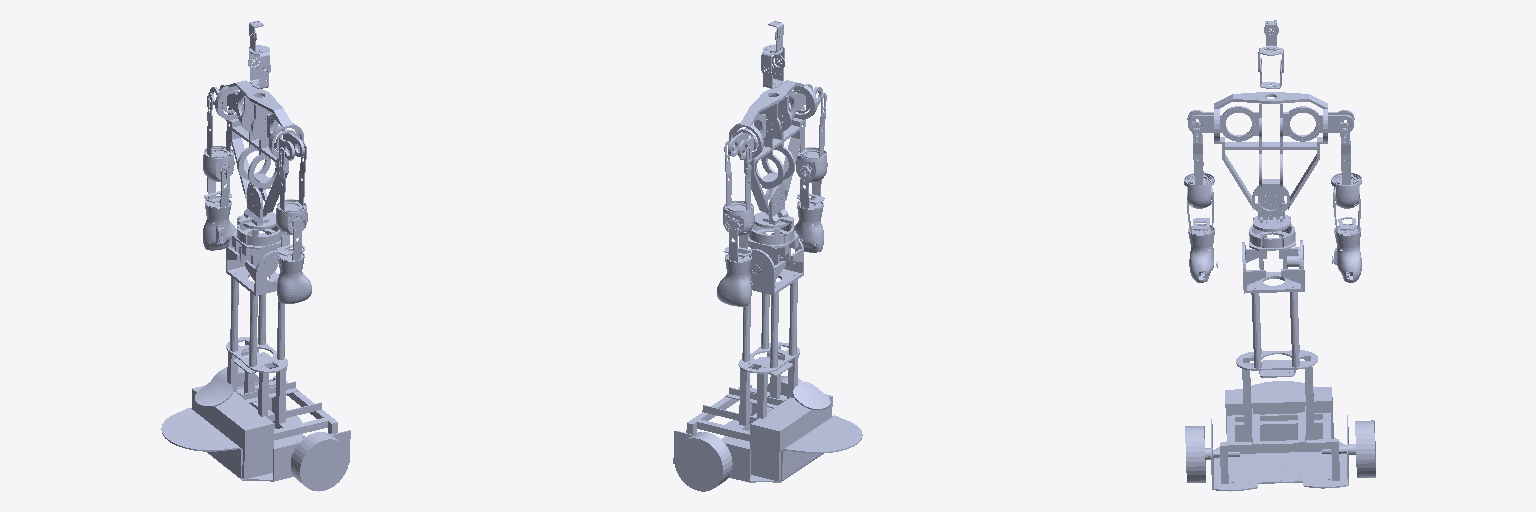
--- What the picture shows (computed from the rendered views, not written in the file) ---
3 views of the same robot in one strip: view 1: azimuth 30°, elevation 25°; view 2: azimuth 150°, elevation 25°; view 3: azimuth 270°, elevation 25° (orthographic).
Robot: doozy_bot — 20 links, 19 joints (16 revolute, 2 continuous, 1 fixed); root link base_footprint; default pose: all joints at 0.
Links seen in each view (by area): view 1: base_link, upperstructure_link, r_wheel_link, r_wrist_link, l_wrist_link, r_hand_link, r_shoulder_link, l_elbow_link, r_forarm_link, r_elbow_link, l_hand_link, l_shoulder_link (+1 smaller); view 2: base_link, upperstructure_link, l_wheel_link, l_wrist_link, r_wrist_link, l_hand_link, l_shoulder_link, r_elbow_link, l_forarm_link, l_elbow_link, r_hand_link, r_forarm_link (+2 smaller); view 3: base_link, upperstructure_link, l_wheel_link, r_wheel_link, l_wrist_link, r_wrist_link, l_hand_link, r_hand_link, l_shoulder_link, r_shoulder_link, r_elbow_link, l_elbow_link.
Boxes of the visible links, box(x1,y1,x2,y2) form: base_link: box(161, 216, 350, 481); upperstructure_link: box(215, 80, 303, 229); r_wheel_link: box(291, 432, 348, 491); r_wrist_link: box(277, 249, 311, 303); l_wrist_link: box(203, 196, 235, 250); r_hand_link: box(256, 114, 304, 159); r_shoulder_link: box(279, 142, 306, 212); l_elbow_link: box(203, 146, 234, 181); r_forarm_link: box(277, 219, 304, 260); r_elbow_link: box(276, 199, 307, 234); l_hand_link: box(209, 85, 253, 127); l_shoulder_link: box(206, 93, 233, 158); base_link: box(673, 217, 862, 482); upperstructure_link: box(729, 80, 817, 228); l_wheel_link: box(674, 432, 732, 491); l_wrist_link: box(717, 254, 751, 306); r_wrist_link: box(794, 198, 823, 252); l_hand_link: box(728, 114, 776, 158); l_shoulder_link: box(724, 141, 751, 211); r_elbow_link: box(796, 147, 827, 182); l_forarm_link: box(724, 219, 751, 262); l_elbow_link: box(723, 201, 754, 235); r_hand_link: box(778, 84, 822, 127); r_forarm_link: box(797, 167, 824, 207); base_link: box(1211, 215, 1348, 491); upperstructure_link: box(1214, 92, 1327, 231); l_wheel_link: box(1322, 420, 1375, 477); r_wheel_link: box(1185, 426, 1239, 482); l_wrist_link: box(1333, 224, 1361, 282); r_wrist_link: box(1188, 224, 1214, 282); l_hand_link: box(1283, 106, 1354, 141); r_hand_link: box(1187, 106, 1258, 141); l_shoulder_link: box(1334, 114, 1359, 185); r_shoulder_link: box(1186, 120, 1212, 184); r_elbow_link: box(1184, 173, 1214, 208); l_elbow_link: box(1331, 173, 1361, 208).
Size in the robot's own frame: 0.4656 by 0.5049 by 1.29 metres.
Meshes: 20 distinct files referenced, 20 mesh visuals loaded (20 binary STL).

URDF robot description (doozy_bot):
<?xml version="1.0" encoding="utf-8"?>
<!-- This URDF was automatically created by SolidWorks to URDF Exporter! Originally created by Stephen Brawner ([email redacted]) 
     Commit Version: 1.6.0-4-g7f85cfe  Build Version: 1.6.7995.38578
     For more information, please see http://wiki.ros.org/sw_urdf_exporter -->
<robot
  name="doozy_bot">
  <link
    name="base_footprint">
    <inertial>
      <origin
        xyz="0 -0.000509211285818933 0.0149913543039445"
        rpy="0 0 0" />
      <mass
        value="9.42477796076938E-05" />
      <inertia
        ixx="7.09214541547896E-09"
        ixy="9.27430731204713E-44"
        ixz="-2.73038777231542E-42"
        iyy="7.08402654062148E-09"
        iyz="2.39022450841472E-10"
        izz="5.52427646613278E-11" />
    </inertial>
    <visual>
      <origin
        xyz="0 0 0"
        rpy="0 0 0" />
      <geometry>
        <mesh
          filename="package://doozy_bot/meshes/base_footprint.STL" />
      </geometry>
      <material
        name="">
        <color
          rgba="0.792156862745098 0.819607843137255 0.933333333333333 1" />
      </material>
    </visual>
    <collision>
      <origin
        xyz="0 0 0"
        rpy="0 0 0" />
      <geometry>
        <mesh
          filename="package://doozy_bot/meshes/base_footprint.STL" />
      </geometry>
    </collision>
  </link>
  <link
    name="base_link">
    <inertial>
      <origin
        xyz="-0.0450538288581056 -0.0059277144472778 0.187365876869582"
        rpy="0 0 0" />
      <mass
        value="18.2782100730227" />
      <inertia
        ixx="0.247263775283813"
        ixy="-0.000384546195150551"
        ixz="0.012827341177219"
        iyy="0.21381201004082"
        iyz="-0.00397573419022689"
        izz="0.328996534571311" />
    </inertial>
    <visual>
      <origin
        xyz="0 0 0"
        rpy="0 0 0" />
      <geometry>
        <mesh
          filename="package://doozy_bot/meshes/base_link.STL" />
      </geometry>
      <material
        name="">
        <color
          rgba="0.792156862745098 0.819607843137255 0.933333333333333 1" />
      </material>
    </visual>
    <collision>
      <origin
        xyz="0 0 0"
        rpy="0 0 0" />
      <geometry>
        <mesh
          filename="package://doozy_bot/meshes/base_link.STL" />
      </geometry>
    </collision>
  </link>
  <joint
    name="base_joint"
    type="fixed">
    <origin
      xyz="-0.035588 -0.0023507 0.024935"
      rpy="0 0 0" />
    <parent
      link="base_footprint" />
    <child
      link="base_link" />
    <axis
      xyz="0 0 0" />
  </joint>
  <link
    name="l_wheel_link">
    <inertial>
      <origin
        xyz="2.4980018054066E-16 -0.0274350745289081 -0.000931887092704933"
        rpy="0 0 0" />
      <mass
        value="0.919701249338412" />
      <inertia
        ixx="0.00158993491700959"
        ixy="-9.61192490481617E-18"
        ixz="-3.2648822387594E-19"
        iyy="0.00248670421133997"
        iyz="3.04605598807479E-05"
        izz="0.001590969570754" />
    </inertial>
    <visual>
      <origin
        xyz="0 0 0"
        rpy="0 0 0" />
      <geometry>
        <mesh
          filename="package://doozy_bot/meshes/l_wheel_link.STL" />
      </geometry>
      <material
        name="">
        <color
          rgba="0.792156862745098 0.819607843137255 0.933333333333333 1" />
      </material>
    </visual>
    <collision>
      <origin
        xyz="0 0 0"
        rpy="0 0 0" />
      <geometry>
        <mesh
          filename="package://doozy_bot/meshes/l_wheel_link.STL" />
      </geometry>
    </collision>
  </link>
  <joint
    name="l_wheel_joint"
    type="continuous">
    <origin
      xyz="0.031201 0.24816 0.058458"
      rpy="0 0 0" />
    <parent
      link="base_link" />
    <child
      link="l_wheel_link" />
    <axis
      xyz="0 -0.99942 -0.033947" />
  </joint>
  <link
    name="r_wheel_link">
    <inertial>
      <origin
        xyz="-8.32667268468867E-17 0.0274350745289081 0.000931887092704919"
        rpy="0 0 0" />
      <mass
        value="0.919701249338413" />
      <inertia
        ixx="0.00158993491700959"
        ixy="-3.13745510154636E-18"
        ixz="-1.06569927848804E-19"
        iyy="0.00248670421133997"
        iyz="3.04605598807479E-05"
        izz="0.001590969570754" />
    </inertial>
    <visual>
      <origin
        xyz="0 0 0"
        rpy="0 0 0" />
      <geometry>
        <mesh
          filename="package://doozy_bot/meshes/r_wheel_link.STL" />
      </geometry>
      <material
        name="">
        <color
          rgba="0.792156862745098 0.819607843137255 0.933333333333333 1" />
      </material>
    </visual>
    <collision>
      <origin
        xyz="0 0 0"
        rpy="0 0 0" />
      <geometry>
        <mesh
          filename="package://doozy_bot/meshes/r_wheel_link.STL" />
      </geometry>
    </collision>
  </link>
  <joint
    name="r_wheel_joint"
    type="continuous">
    <origin
      xyz="0.031201 -0.24756 0.04162"
      rpy="0 0 0" />
    <parent
      link="base_link" />
    <child
      link="r_wheel_link" />
    <axis
      xyz="0 0.99942 0.033947" />
  </joint>
  <link
    name="upperstructure_link">
    <inertial>
      <origin
        xyz="0.00650426250763791 0.0139508539846484 -0.381471551160271"
        rpy="0 0 0" />
      <mass
        value="6.91172210843983" />
      <inertia
        ixx="0.102083252848626"
        ixy="-0.000141822394323753"
        ixz="0.00491852393509332"
        iyy="0.0944757426967062"
        iyz="-0.00150762305279463"
        izz="0.137379313455746" />
    </inertial>
    <visual>
      <origin
        xyz="0 0 0"
        rpy="0 0 0" />
      <geometry>
        <mesh
          filename="package://doozy_bot/meshes/upperstructure_link.STL" />
      </geometry>
      <material
        name="">
        <color
          rgba="0.792156862745098 0.819607843137255 0.933333333333333 1" />
      </material>
    </visual>
    <collision>
      <origin
        xyz="0 0 0"
        rpy="0 0 0" />
      <geometry>
        <mesh
          filename="package://doozy_bot/meshes/upperstructure_link.STL" />
      </geometry>
    </collision>
  </link>
  <joint
    name="upperstructure_joint"
    type="revolute">
    <origin
      xyz="-0.03658 -0.023016 0.67761"
      rpy="0 0 0" />
    <parent
      link="base_link" />
    <child
      link="upperstructure_link" />
    <axis
      xyz="0 0 0" />
    <limit
      lower="0"
      upper="0"
      effort="0"
      velocity="0" />
  </joint>
  <link
    name="l_hand_link">
    <inertial>
      <origin
        xyz="0.0010338863787413 -0.036294882926561 0.00530678934060824"
        rpy="0 0 0" />
      <mass
        value="0.114916853451241" />
      <inertia
        ixx="0.000370894378627566"
        ixy="-3.78201115435855E-06"
        ixz="-7.89996924889332E-07"
        iyy="6.67653118802987E-05"
        iyz="9.23854158134228E-08"
        izz="0.000338573320940976" />
    </inertial>
    <visual>
      <origin
        xyz="0 0 0"
        rpy="0 0 0" />
      <geometry>
        <mesh
          filename="package://doozy_bot/meshes/l_hand_link.STL" />
      </geometry>
      <material
        name="">
        <color
          rgba="0.792156862745098 0.819607843137255 0.933333333333333 1" />
      </material>
    </visual>
    <collision>
      <origin
        xyz="0 0 0"
        rpy="0 0 0" />
      <geometry>
        <mesh
          filename="package://doozy_bot/meshes/l_hand_link.STL" />
      </geometry>
    </collision>
  </link>
  <joint
    name="l_hand_joint"
    type="revolute">
    <origin
      xyz="-0.002 0.14769 0.28663"
      rpy="0 0 0" />
    <parent
      link="upperstructure_link" />
    <child
      link="l_hand_link" />
    <axis
      xyz="0 1 0" />
    <limit
      lower="0"
      upper="0"
      effort="0"
      velocity="0" />
  </joint>
  <link
    name="l_shoulder_link">
    <inertial>
      <origin
        xyz="0.0110607132878407 0.00282341661543634 -0.101719140520748"
        rpy="0 0 0" />
      <mass
        value="0.0280221823538722" />
      <inertia
        ixx="6.06172510078809E-05"
        ixy="3.60643143135308E-08"
        ixz="-1.35631310716094E-06"
        iyy="6.00193217232625E-05"
        iyz="1.41801460703284E-06"
        izz="5.12496341113117E-06" />
    </inertial>
    <visual>
      <origin
        xyz="0 0 0"
        rpy="0 0 0" />
      <geometry>
        <mesh
          filename="package://doozy_bot/meshes/l_shoulder_link.STL" />
      </geometry>
      <material
        name="">
        <color
          rgba="0.792156862745098 0.819607843137255 0.933333333333333 1" />
      </material>
    </visual>
    <collision>
      <origin
        xyz="0 0 0"
        rpy="0 0 0" />
      <geometry>
        <mesh
          filename="package://doozy_bot/meshes/l_shoulder_link.STL" />
      </geometry>
    </collision>
  </link>
  <joint
    name="l_shoulder_joint"
    type="revolute">
    <origin
      xyz="-0.018538 0.044 0.0057849"
      rpy="0 0 0" />
    <parent
      link="l_hand_link" />
    <child
      link="l_shoulder_link" />
    <axis
      xyz="0.9997 0 -0.02442" />
    <limit
      lower="0"
      upper="0"
      effort="0"
      velocity="0" />
  </joint>
  <link
    name="l_elbow_link">
    <inertial>
      <origin
        xyz="-0.000790285985823064 0.00141266542665888 -0.0284224540187951"
        rpy="0 0 0" />
      <mass
        value="0.0708334388528727" />
      <inertia
        ixx="5.54225684155051E-05"
        ixy="-2.42762052631047E-06"
        ixz="3.21338482653483E-07"
        iyy="8.67349318026477E-05"
        iyz="-3.8671817631249E-06"
        izz="5.81326034664363E-05" />
    </inertial>
    <visual>
      <origin
        xyz="0 0 0"
        rpy="0 0 0" />
      <geometry>
        <mesh
          filename="package://doozy_bot/meshes/l_elbow_link.STL" />
      </geometry>
      <material
        name="">
        <color
          rgba="0.792156862745098 0.819607843137255 0.933333333333333 1" />
      </material>
    </visual>
    <collision>
      <origin
        xyz="0 0 0"
        rpy="0 0 0" />
      <geometry>
        <mesh
          filename="package://doozy_bot/meshes/l_elbow_link.STL" />
      </geometry>
    </collision>
  </link>
  <joint
    name="l_elbow_joint"
    type="revolute">
    <origin
      xyz="0.0094738 0.0033095 -0.17326"
      rpy="0 0 0" />
    <parent
      link="l_shoulder_link" />
    <child
      link="l_elbow_link" />
    <axis
      xyz="0.024412 -0.025799 0.99937" />
    <limit
      lower="0"
      upper="0"
      effort="0"
      velocity="0" />
  </joint>
  <link
    name="l_forarm_link">
    <inertial>
      <origin
        xyz="0.00323106841776752 -0.0275646010086832 -0.0678651597663743"
        rpy="0 0 0" />
      <mass
        value="0.0343679873488544" />
      <inertia
        ixx="3.08185568488202E-05"
        ixy="-2.14041544030977E-07"
        ixz="5.90561698737247E-09"
        iyy="3.35854134168072E-05"
        iyz="6.06082537839032E-07"
        izz="8.63577698916135E-06" />
    </inertial>
    <visual>
      <origin
        xyz="0 0 0"
        rpy="0 0 0" />
      <geometry>
        <mesh
          filename="package://doozy_bot/meshes/l_forarm_link.STL" />
      </geometry>
      <material
        name="">
        <color
          rgba="0.792156862745098 0.819607843137255 0.933333333333333 1" />
      </material>
    </visual>
    <collision>
      <origin
        xyz="0 0 0"
        rpy="0 0 0" />
      <geometry>
        <mesh
          filename="package://doozy_bot/meshes/l_forarm_link.STL" />
      </geometry>
    </collision>
  </link>
  <joint
    name="l_forarm_joint"
    type="revolute">
    <origin
      xyz="-0.0033417 0.031958 -0.034115"
      rpy="0 0 0" />
    <parent
      link="l_elbow_link" />
    <child
      link="l_forarm_link" />
    <axis
      xyz="0.076206 -0.99671 -0.027592" />
    <limit
      lower="0"
      upper="0"
      effort="0"
      velocity="0" />
  </joint>
  <link
    name="l_wrist_link">
    <inertial>
      <origin
        xyz="0.000194550669443488 -0.0042920704722024 -0.0636596439358776"
        rpy="0 0 0" />
      <mass
        value="0.126777666096182" />
      <inertia
        ixx="0.000179484818623813"
        ixy="-9.69712905703243E-07"
        ixz="1.21843533593944E-05"
        iyy="0.000220546191652133"
        iyz="8.35397251506521E-06"
        izz="7.85294064996557E-05" />
    </inertial>
    <visual>
      <origin
        xyz="0 0 0"
        rpy="0 0 0" />
      <geometry>
        <mesh
          filename="package://doozy_bot/meshes/l_wrist_link.STL" />
      </geometry>
      <material
        name="">
        <color
          rgba="0.792156862745098 0.819607843137255 0.933333333333333 1" />
      </material>
    </visual>
    <collision>
      <origin
        xyz="0 0 0"
        rpy="0 0 0" />
      <geometry>
        <mesh
          filename="package://doozy_bot/meshes/l_wrist_link.STL" />
      </geometry>
    </collision>
  </link>
  <joint
    name="l_wrist_joint"
    type="revolute">
    <origin
      xyz="0.0023892 -0.026523 -0.11278"
      rpy="0 0 0" />
    <parent
      link="l_forarm_link" />
    <child
      link="l_wrist_link" />
    <axis
      xyz="0.00023894 0.02769 -0.99962" />
    <limit
      lower="0"
      upper="0"
      effort="0"
      velocity="0" />
  </joint>
  <link
    name="l_finger_link">
    <inertial>
      <origin
        xyz="2.77555756156289E-17 0.00132088979337613 4.48666595760372E-05"
        rpy="0 0 0" />
      <mass
        value="0.00061746790316696" />
      <inertia
        ixx="1.54611618322015E-08"
        ixy="-1.80946767853971E-25"
        ixz="5.8003269899531E-27"
        iyy="2.97006172473206E-08"
        iyz="4.83671538581666E-10"
        izz="1.54775907018748E-08" />
    </inertial>
    <visual>
      <origin
        xyz="0 0 0"
        rpy="0 0 0" />
      <geometry>
        <mesh
          filename="package://doozy_bot/meshes/l_finger_link.STL" />
      </geometry>
      <material
        name="">
        <color
          rgba="0.823529411764706 0.823529411764706 1 1" />
      </material>
    </visual>
    <collision>
      <origin
        xyz="0 0 0"
        rpy="0 0 0" />
      <geometry>
        <mesh
          filename="package://doozy_bot/meshes/l_finger_link.STL" />
      </geometry>
    </collision>
  </link>
  <joint
    name="l_finger_joint"
    type="revolute">
    <origin
      xyz="-0.009994 -0.043298 -0.086808"
      rpy="0 0 0" />
    <parent
      link="l_wrist_link" />
    <child
      link="l_finger_link" />
    <axis
      xyz="0 0.99942 0.033947" />
    <limit
      lower="0"
      upper="0"
      effort="0"
      velocity="0" />
  </joint>
  <link
    name="r_hand_link">
    <inertial>
      <origin
        xyz="0.00103419479642466 0.0362948829265535 4.44089209850063E-16"
        rpy="0 0 0" />
      <mass
        value="0.114916853451242" />
      <inertia
        ixx="0.000370913676348123"
        ixy="3.78313936258588E-06"
        ixz="2.23775516752745E-19"
        iyy="6.67653118802989E-05"
        iyz="1.33831205666179E-19"
        izz="0.000338554023220421" />
    </inertial>
    <visual>
      <origin
        xyz="0 0 0"
        rpy="0 0 0" />
      <geometry>
        <mesh
          filename="package://doozy_bot/meshes/r_hand_link.STL" />
      </geometry>
      <material
        name="">
        <color
          rgba="0.792156862745098 0.819607843137255 0.933333333333333 1" />
      </material>
    </visual>
    <collision>
      <origin
        xyz="0 0 0"
        rpy="0 0 0" />
      <geometry>
        <mesh
          filename="package://doozy_bot/meshes/r_hand_link.STL" />
      </geometry>
    </collision>
  </link>
  <joint
    name="r_hand_joint"
    type="revolute">
    <origin
      xyz="-0.002 -0.15231 0.29196"
      rpy="0 0 0" />
    <parent
      link="upperstructure_link" />
    <child
      link="r_hand_link" />
    <axis
      xyz="0 1 0" />
    <limit
      lower="0"
      upper="0"
      effort="0"
      velocity="0" />
  </joint>
  <link
    name="r_shoulder_link">
    <inertial>
      <origin
        xyz="0.00854141894586105 0.00364447848035132 -0.101226195869641"
        rpy="0 0 0" />
      <mass
        value="0.0280221823539668" />
      <inertia
        ixx="6.06503815149694E-05"
        ixy="1.42499799388307E-09"
        ixz="4.61272799354756E-11"
        iyy="5.99925442940016E-05"
        iyz="1.86605572174193E-06"
        izz="5.11861033373156E-06" />
    </inertial>
    <visual>
      <origin
        xyz="0 0 0"
        rpy="0 0 0" />
      <geometry>
        <mesh
          filename="package://doozy_bot/meshes/r_shoulder_link.STL" />
      </geometry>
      <material
        name="">
        <color
          rgba="0.792156862745098 0.819607843137255 0.933333333333333 1" />
      </material>
    </visual>
    <collision>
      <origin
        xyz="0 0 0"
        rpy="0 0 0" />
      <geometry>
        <mesh
          filename="package://doozy_bot/meshes/r_shoulder_link.STL" />
      </geometry>
    </collision>
  </link>
  <joint
    name="r_shoulder_joint"
    type="revolute">
    <origin
      xyz="-0.018544 -0.044 0"
      rpy="0 0 0" />
    <parent
      link="r_hand_link" />
    <child
      link="r_shoulder_link" />
    <axis
      xyz="1 0 0" />
    <limit
      lower="0"
      upper="0"
      effort="0"
      velocity="0" />
  </joint>
  <link
    name="r_elbow_link">
    <inertial>
      <origin
        xyz="4.39855432440017E-05 0.000282843607480099 -0.0284674627359862"
        rpy="0 0 0" />
      <mass
        value="0.0708345172477184" />
      <inertia
        ixx="5.5236459553885E-05"
        ixy="8.40398447814937E-08"
        ixz="4.73853688145138E-08"
        iyy="8.63376374418204E-05"
        iyz="5.61799666696872E-06"
        izz="5.87181164047261E-05" />
    </inertial>
    <visual>
      <origin
        xyz="0 0 0"
        rpy="0 0 0" />
      <geometry>
        <mesh
          filename="package://doozy_bot/meshes/r_elbow_link.STL" />
      </geometry>
      <material
        name="">
        <color
          rgba="0.792156862745098 0.819607843137255 0.933333333333333 1" />
      </material>
    </visual>
    <collision>
      <origin
        xyz="0 0 0"
        rpy="0 0 0" />
      <geometry>
        <mesh
          filename="package://doozy_bot/meshes/r_elbow_link.STL" />
      </geometry>
    </collision>
  </link>
  <joint
    name="r_elbow_joint"
    type="revolute">
    <origin
      xyz="0.0083874 0.0070328 -0.17269"
      rpy="0 0 0" />
    <parent
      link="r_shoulder_link" />
    <child
      link="r_elbow_link" />
    <axis
      xyz="0 0.033947 -0.99942" />
    <limit
      lower="0"
      upper="0"
      effort="0"
      velocity="0" />
  </joint>
  <link
    name="r_forarm_link">
    <inertial>
      <origin
        xyz="-0.000241803181302763 0.031852894128237 -0.0660398486436837"
        rpy="0 0 0" />
      <mass
        value="0.0343679873488544" />
      <inertia
        ixx="3.07996579824156E-05"
        ixy="-9.01142408758124E-09"
        ixz="2.38187854664461E-07"
        iyy="3.35815643914489E-05"
        iyz="9.33373715971777E-07"
        izz="8.65852488092457E-06" />
    </inertial>
    <visual>
      <origin
        xyz="0 0 0"
        rpy="0 0 0" />
      <geometry>
        <mesh
          filename="package://doozy_bot/meshes/r_forarm_link.STL" />
      </geometry>
      <material
        name="">
        <color
          rgba="0.792156862745098 0.819607843137255 0.933333333333333 1" />
      </material>
    </visual>
    <collision>
      <origin
        xyz="0 0 0"
        rpy="0 0 0" />
      <geometry>
        <mesh
          filename="package://doozy_bot/meshes/r_forarm_link.STL" />
      </geometry>
    </collision>
  </link>
  <joint
    name="r_forarm_joint"
    type="revolute">
    <origin
      xyz="0.00011257 -0.02996 -0.036038"
      rpy="0 0 0" />
    <parent
      link="r_elbow_link" />
    <child
      link="r_forarm_link" />
    <axis
      xyz="0 0.99942 0.033947" />
    <limit
      lower="0"
      upper="0"
      effort="0"
      velocity="0" />
  </joint>
  <link
    name="r_wrist_link">
    <inertial>
      <origin
        xyz="0.0046435573430868 0.00206611468602114 -0.0624558053069965"
        rpy="0 0 0" />
      <mass
        value="0.0878211831020795" />
      <inertia
        ixx="0.000168921592259933"
        ixy="8.32338951662842E-07"
        ixz="1.32269795624382E-05"
        iyy="0.000211253989672042"
        iyz="2.69331722434322E-07"
        izz="6.89712485001636E-05" />
    </inertial>
    <visual>
      <origin
        xyz="0 0 0"
        rpy="0 0 0" />
      <geometry>
        <mesh
          filename="package://doozy_bot/meshes/r_wrist_link.STL" />
      </geometry>
      <material
        name="">
        <color
          rgba="0.792156862745098 0.819607843137255 0.933333333333333 1" />
      </material>
    </visual>
    <collision>
      <origin
        xyz="0 0 0"
        rpy="0 0 0" />
      <geometry>
        <mesh
          filename="package://doozy_bot/meshes/r_wrist_link.STL" />
      </geometry>
    </collision>
  </link>
  <joint
    name="r_wrist_joint"
    type="revolute">
    <origin
      xyz="0.0011858 0.03351 -0.11092"
      rpy="0 0 0" />
    <parent
      link="r_forarm_link" />
    <child
      link="r_wrist_link" />
    <axis
      xyz="0.010747 0.033945 -0.99937" />
    <limit
      lower="0"
      upper="0"
      effort="0"
      velocity="0" />
  </joint>
  <link
    name="r_finger_link">
    <inertial>
      <origin
        xyz="0 -0.00132088979337608 -4.48666595760372E-05"
        rpy="0 0 0" />
      <mass
        value="0.000617467903166957" />
      <inertia
        ixx="1.54611618322015E-08"
        ixy="-7.90122920897465E-25"
        ixz="-3.83381436684898E-26"
        iyy="2.97006172473206E-08"
        iyz="4.83671538581563E-10"
        izz="1.54775907018748E-08" />
    </inertial>
    <visual>
      <origin
        xyz="0 0 0"
        rpy="0 0 0" />
      <geometry>
        <mesh
          filename="package://doozy_bot/meshes/r_finger_link.STL" />
      </geometry>
      <material
        name="">
        <color
          rgba="0.823529411764706 0.823529411764706 1 1" />
      </material>
    </visual>
    <collision>
      <origin
        xyz="0 0 0"
        rpy="0 0 0" />
      <geometry>
        <mesh
          filename="package://doozy_bot/meshes/r_finger_link.STL" />
      </geometry>
    </collision>
  </link>
  <joint
    name="r_finger_joint"
    type="revolute">
    <origin
      xyz="0.0085537 0.043536 -0.090776"
      rpy="0 0 0" />
    <parent
      link="r_wrist_link" />
    <child
      link="r_finger_link" />
    <axis
      xyz="0 0 0" />
    <limit
      lower="0"
      upper="0"
      effort="0"
      velocity="0" />
  </joint>
  <link
    name="neckro_link">
    <inertial>
      <origin
        xyz="-0.000100819305809713 4.81158455832298E-05 0.0199371835605915"
        rpy="0 0 0" />
      <mass
        value="0.0145537829788612" />
      <inertia
        ixx="1.54233511847542E-05"
        ixy="-3.38463069800254E-07"
        ixz="-3.38065120829672E-08"
        iyy="9.16786919787863E-06"
        iyz="-2.68813926800935E-08"
        izz="9.47045886490237E-06" />
    </inertial>
    <visual>
      <origin
        xyz="0 0 0"
        rpy="0 0 0" />
      <geometry>
        <mesh
          filename="package://doozy_bot/meshes/neckro_link.STL" />
      </geometry>
      <material
        name="">
        <color
          rgba="0.792156862745098 0.819607843137255 0.933333333333333 1" />
      </material>
    </visual>
    <collision>
      <origin
        xyz="0 0 0"
        rpy="0 0 0" />
      <geometry>
        <mesh
          filename="package://doozy_bot/meshes/neckro_link.STL" />
      </geometry>
    </collision>
  </link>
  <joint
    name="neckro_joint"
    type="revolute">
    <origin
      xyz="-0.002 -0.0023084 0.40096"
      rpy="0 0 0" />
    <parent
      link="upperstructure_link" />
    <child
      link="neckro_link" />
    <axis
      xyz="0 0 1" />
    <limit
      lower="0"
      upper="0"
      effort="0"
      velocity="0" />
  </joint>
  <link
    name="neckupdn_link">
    <inertial>
      <origin
        xyz="-0.00606431262985568 -0.027703659863342 0.0395270869119519"
        rpy="0 0 0" />
      <mass
        value="0.0234428419773424" />
      <inertia
        ixx="2.08647141709084E-05"
        ixy="-5.49956339024811E-07"
        ixz="3.53843689606319E-07"
        iyy="1.10986009831225E-05"
        iyz="-1.98631086510505E-08"
        izz="1.43715502195595E-05" />
    </inertial>
    <visual>
      <origin
        xyz="0 0 0"
        rpy="0 0 0" />
      <geometry>
        <mesh
          filename="package://doozy_bot/meshes/neckupdn_link.STL" />
      </geometry>
      <material
        name="">
        <color
          rgba="0.792156862745098 0.819607843137255 0.933333333333333 1" />
      </material>
    </visual>
    <collision>
      <origin
        xyz="0 0 0"
        rpy="0 0 0" />
      <geometry>
        <mesh
          filename="package://doozy_bot/meshes/neckupdn_link.STL" />
      </geometry>
    </collision>
  </link>
  <joint
    name="neckupdn_joint"
    type="revolute">
    <origin
      xyz="0.0015693 0.027956 0.054"
      rpy="0 0 0" />
    <parent
      link="neckro_link" />
    <child
      link="neckupdn_link" />
    <axis
      xyz="0.056047 0.99843 0" />
    <limit
      lower="0"
      upper="0"
      effort="0"
      velocity="0" />
  </joint>
  <link
    name="necktilt_link">
    <inertial>
      <origin
        xyz="0.00466458623502139 -0.000780202193016111 0.0152440777373635"
        rpy="0 0 0" />
      <mass
        value="0.00551601758227204" />
      <inertia
        ixx="1.30456325198239E-06"
        ixy="1.51173071236332E-08"
        ixz="-3.81885711171832E-07"
        iyy="1.34042672590411E-06"
        iyz="3.85073973669066E-08"
        izz="8.40793587060435E-07" />
    </inertial>
    <visual>
      <origin
        xyz="0 0 0"
        rpy="0 0 0" />
      <geometry>
        <mesh
          filename="package://doozy_bot/meshes/necktilt_link.STL" />
      </geometry>
      <material
        name="">
        <color
          rgba="0.792156862745098 0.819607843137255 0.933333333333333 1" />
      </material>
    </visual>
    <collision>
      <origin
        xyz="0 0 0"
        rpy="0 0 0" />
      <geometry>
        <mesh
          filename="package://doozy_bot/meshes/necktilt_link.STL" />
      </geometry>
    </collision>
  </link>
  <joint
    name="necktilt_joint"
    type="revolute">
    <origin
      xyz="-0.022445 -0.026784 0.095626"
      rpy="0 0 0" />
    <parent
      link="neckupdn_link" />
    <child
      link="necktilt_link" />
    <axis
      xyz="0.99843 -0.056047 -0.00095235" />
    <limit
      lower="0"
      upper="0"
      effort="0"
      velocity="0" />
  </joint>
</robot>
